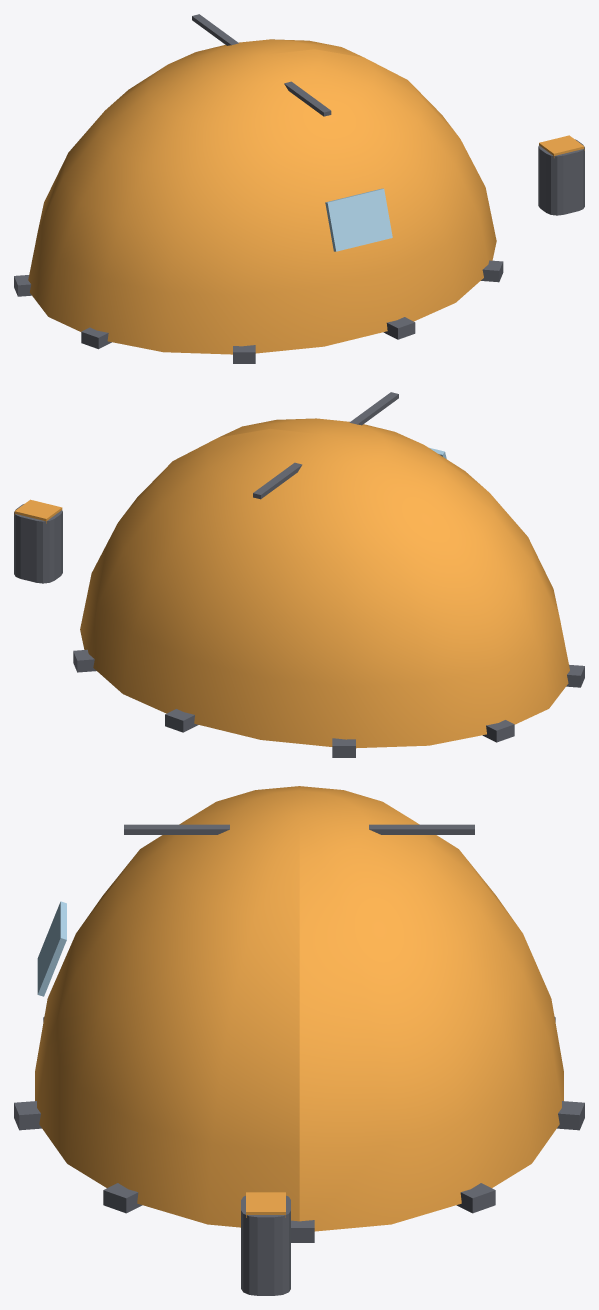
The model's file is backcountry-snowboarding-and-avalanche-safety-group-bi-b1beb43c__18941.glb.
3 views of the same model, one above another, from view 1: azimuth 30°, elevation 25°; view 2: azimuth 150°, elevation 25°; view 3: azimuth 270°, elevation 25° (orthographic). The views are drawn at different scales.
Visible parts, largest first — view 1: group-bivvy-shelter; view 2: group-bivvy-shelter; view 3: group-bivvy-shelter.
Part boxes in pixels (x1,y1,x2,y2): group-bivvy-shelter: (14,14,584,363); group-bivvy-shelter: (14,392,584,757); group-bivvy-shelter: (14,786,584,1295).
Size of the model in its own units: 2.38 by 0.935 by 1.71.
